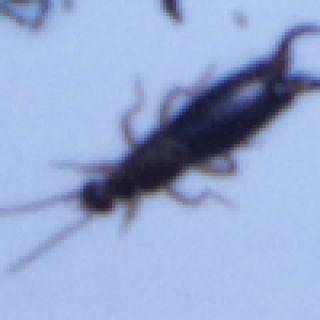earwig: (4, 21, 320, 275)
